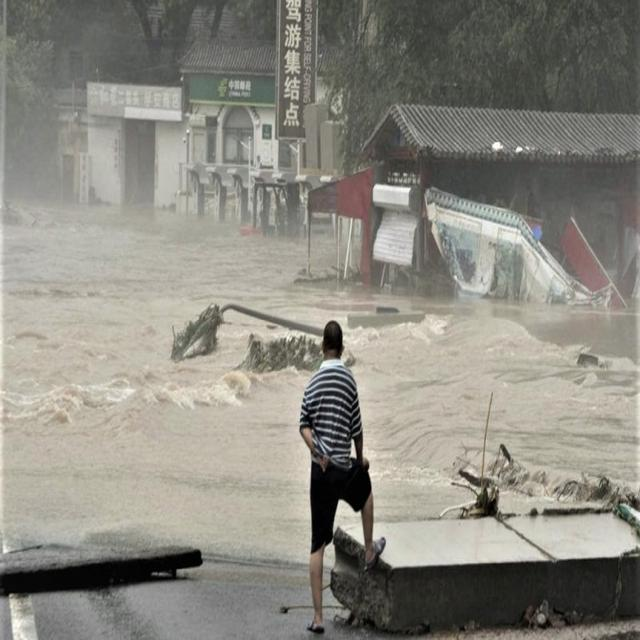Person-RiskLevel1: (293, 309, 390, 634)
